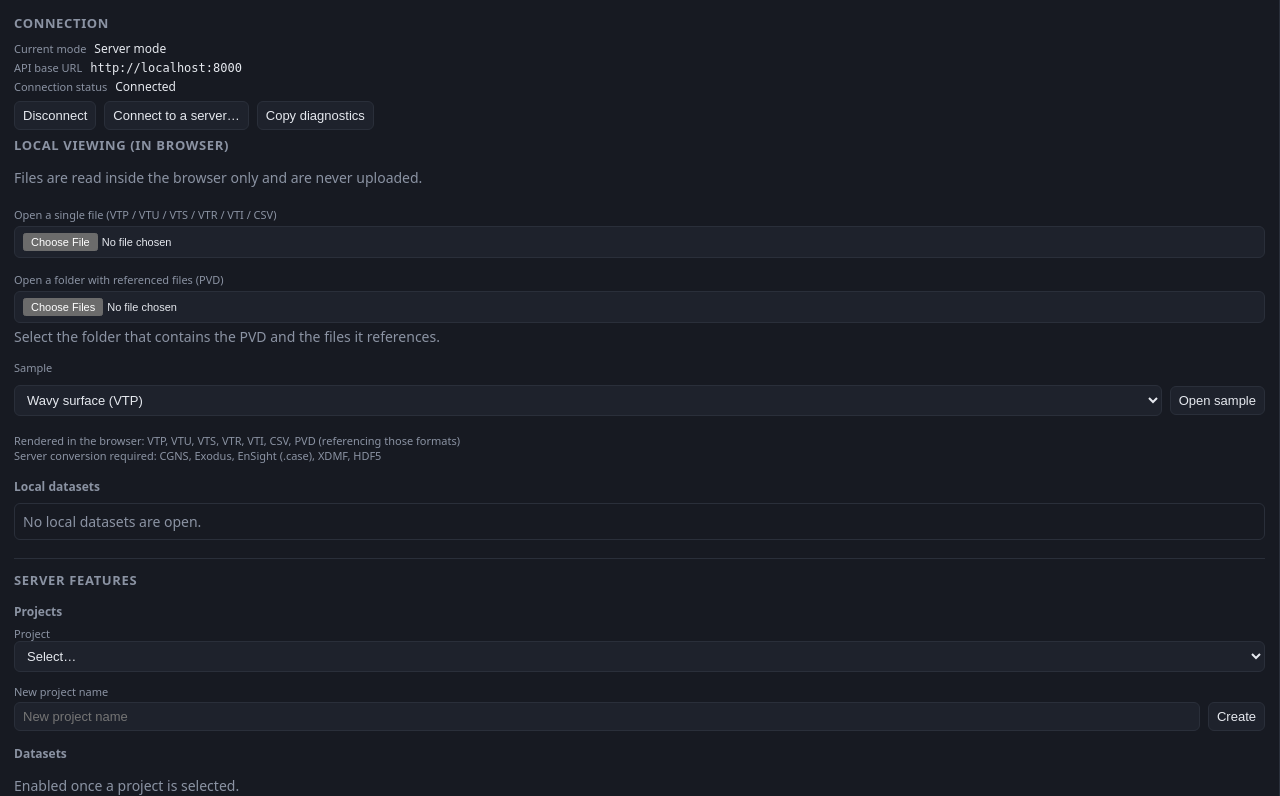
Test: DatasetPanel project creation (F-02 / R-05) › keeps the typed name and explains the failure when creation fails
The width and height of the screenshot is (1280, 796).
Type "CUA-test-retry" into the field labelled "New project name" at coordinates (607, 716), box [14, 702, 1200, 731]
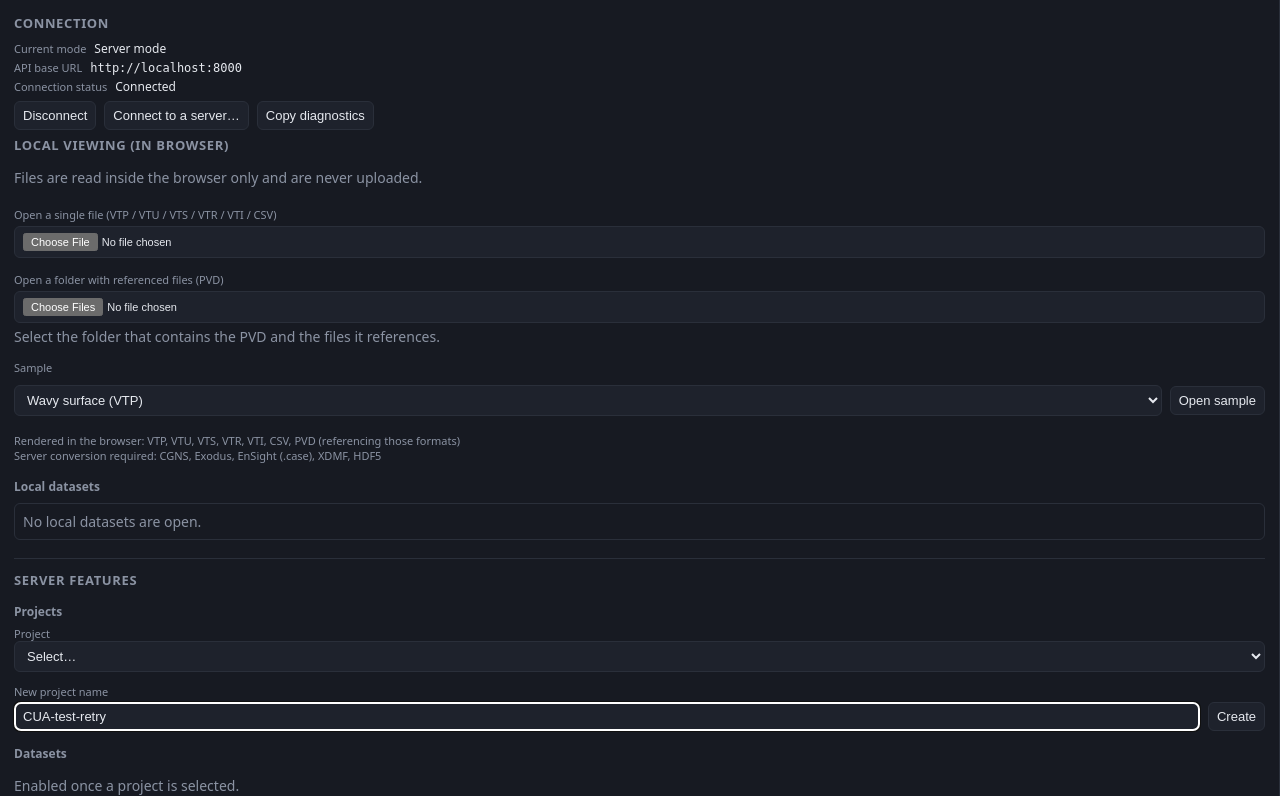
Click the button "Create" at coordinates (1236, 716), box [1208, 702, 1265, 731]
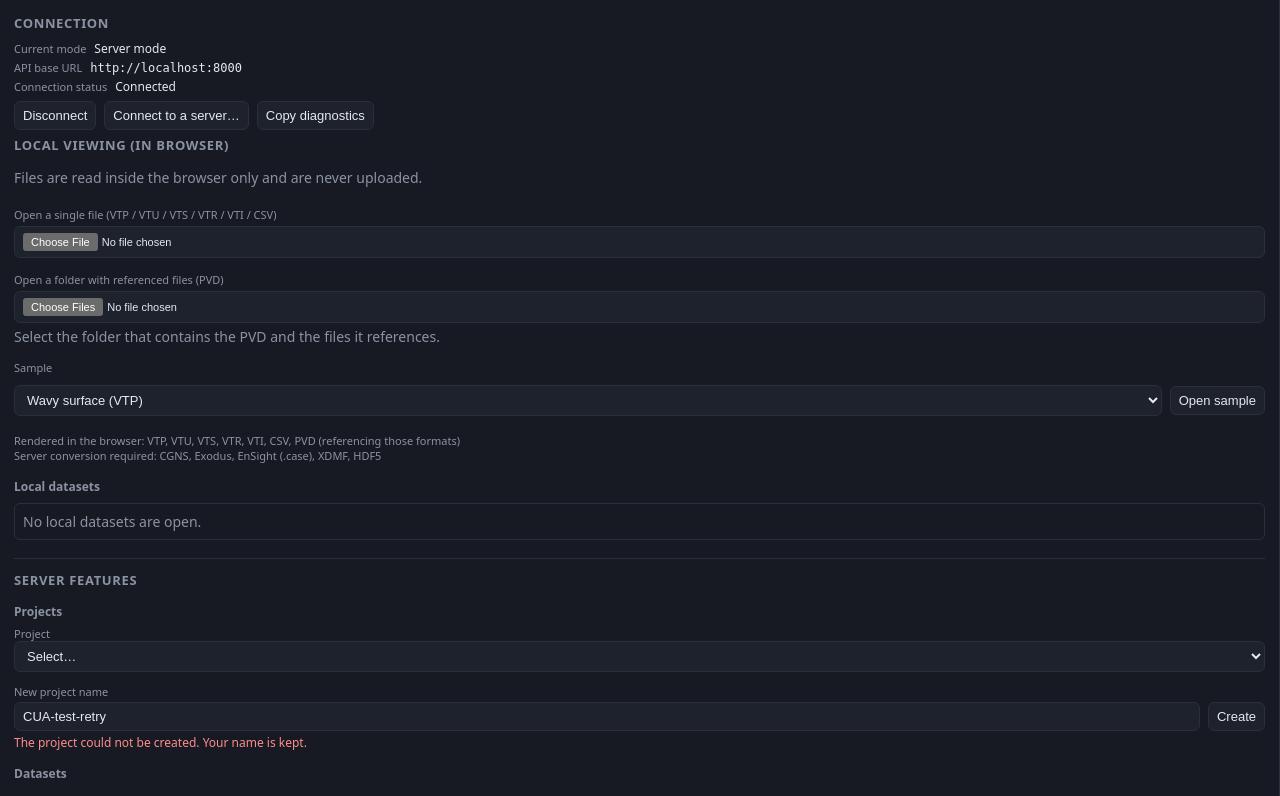
Now the message "The project could not be created. Your name is kept." is shown, box [14, 734, 307, 751]
